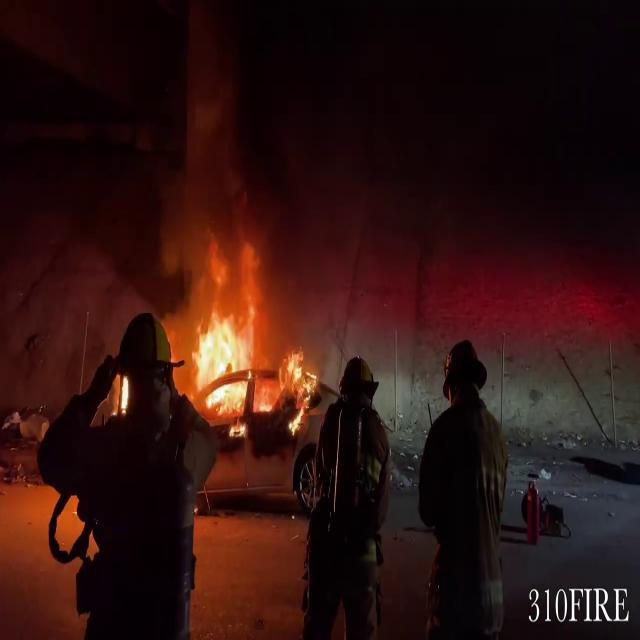Fire: (182, 302, 274, 416), (284, 348, 320, 434)
Smoke: (144, 6, 338, 298)
